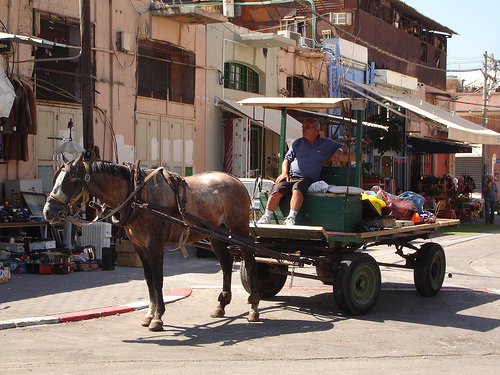horse: (44, 142, 264, 332)
